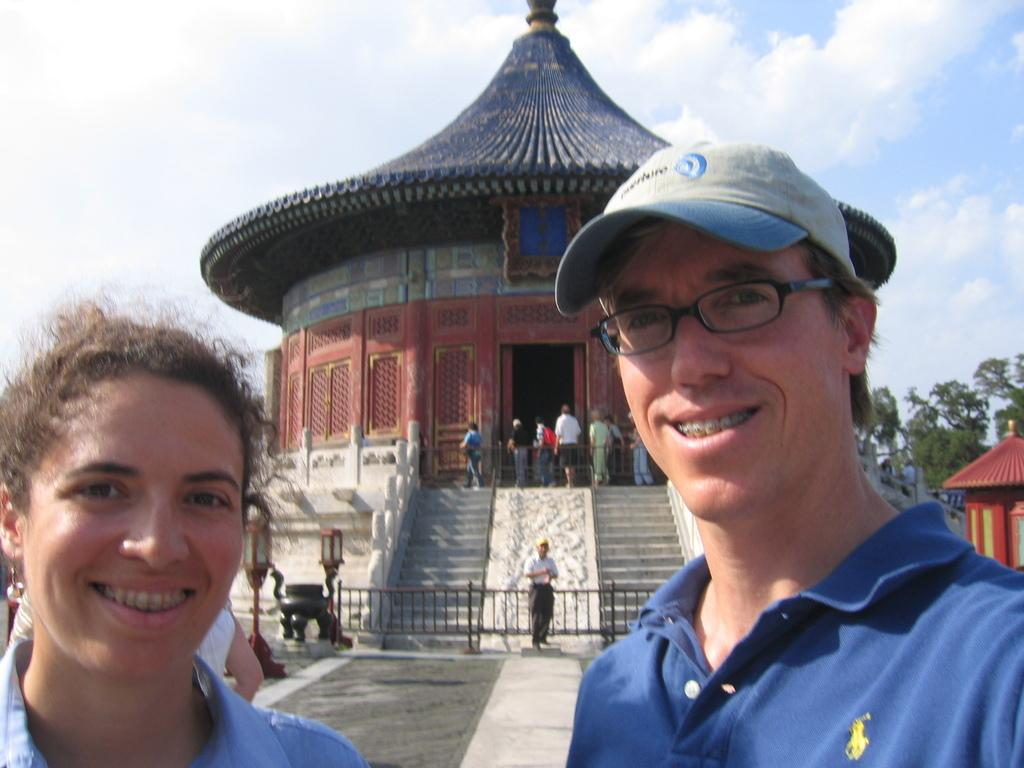Hat: (552, 138, 856, 320)
